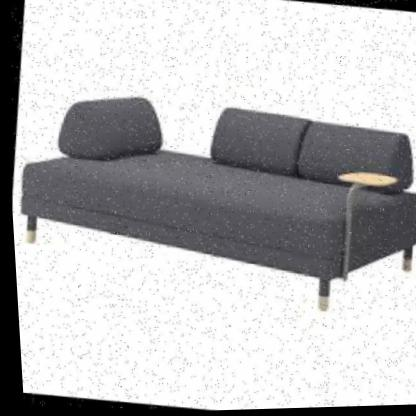Sofa: (4, 80, 416, 323)
